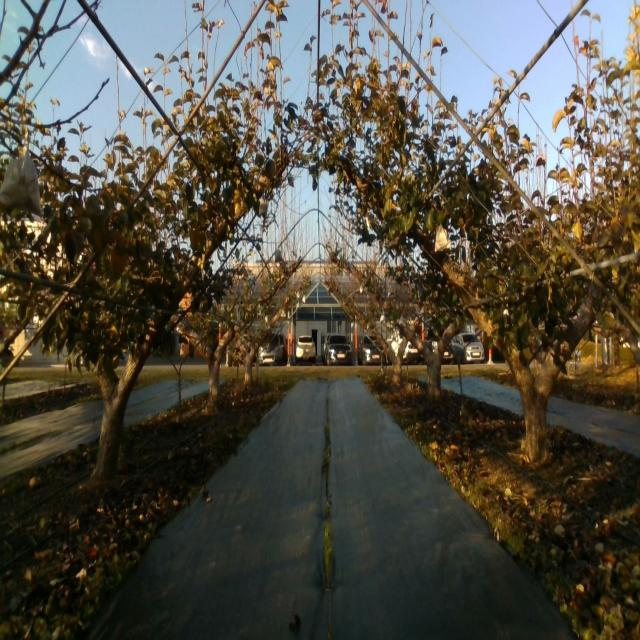pearbags: (0, 150, 42, 217), (435, 225, 451, 252), (258, 198, 268, 218)
